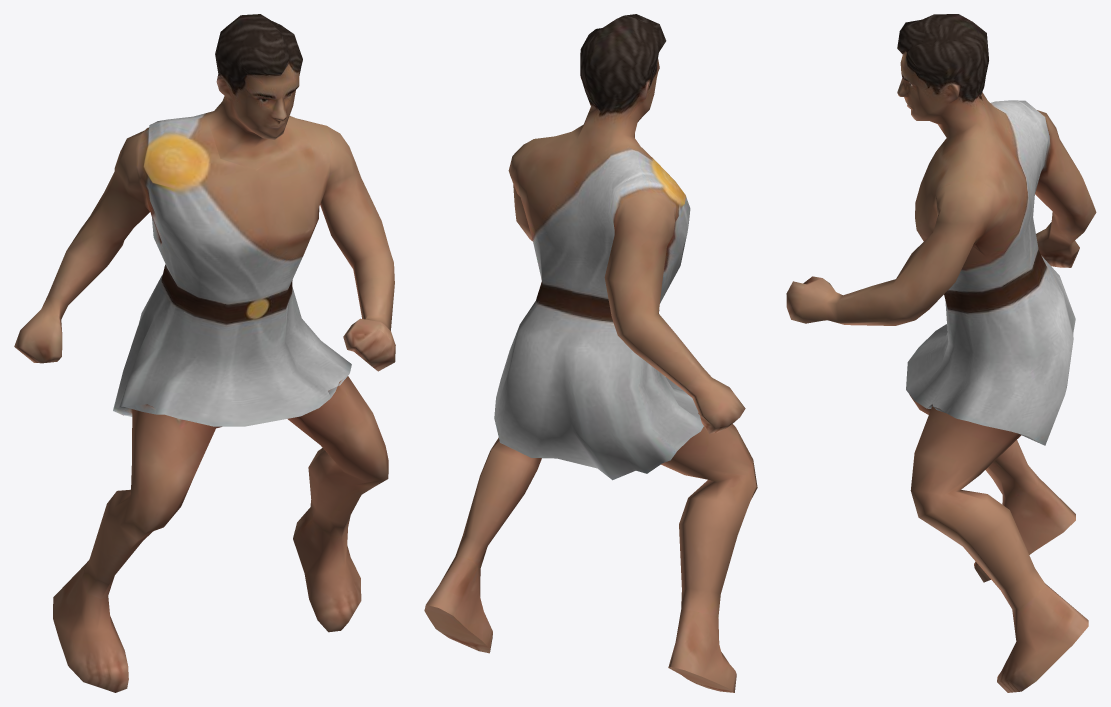
Rendered from rider-slice-base.glb.
3 renders of one model, left to right at view 1: azimuth 30°, elevation 25°; view 2: azimuth 150°, elevation 25°; view 3: azimuth 270°, elevation 25°, orthographic. The views are drawn at different scales.
Bounding box in the file's own units: 1.03 × 1.99 × 0.8974.
Materials: 1 (1 with a texture image).
